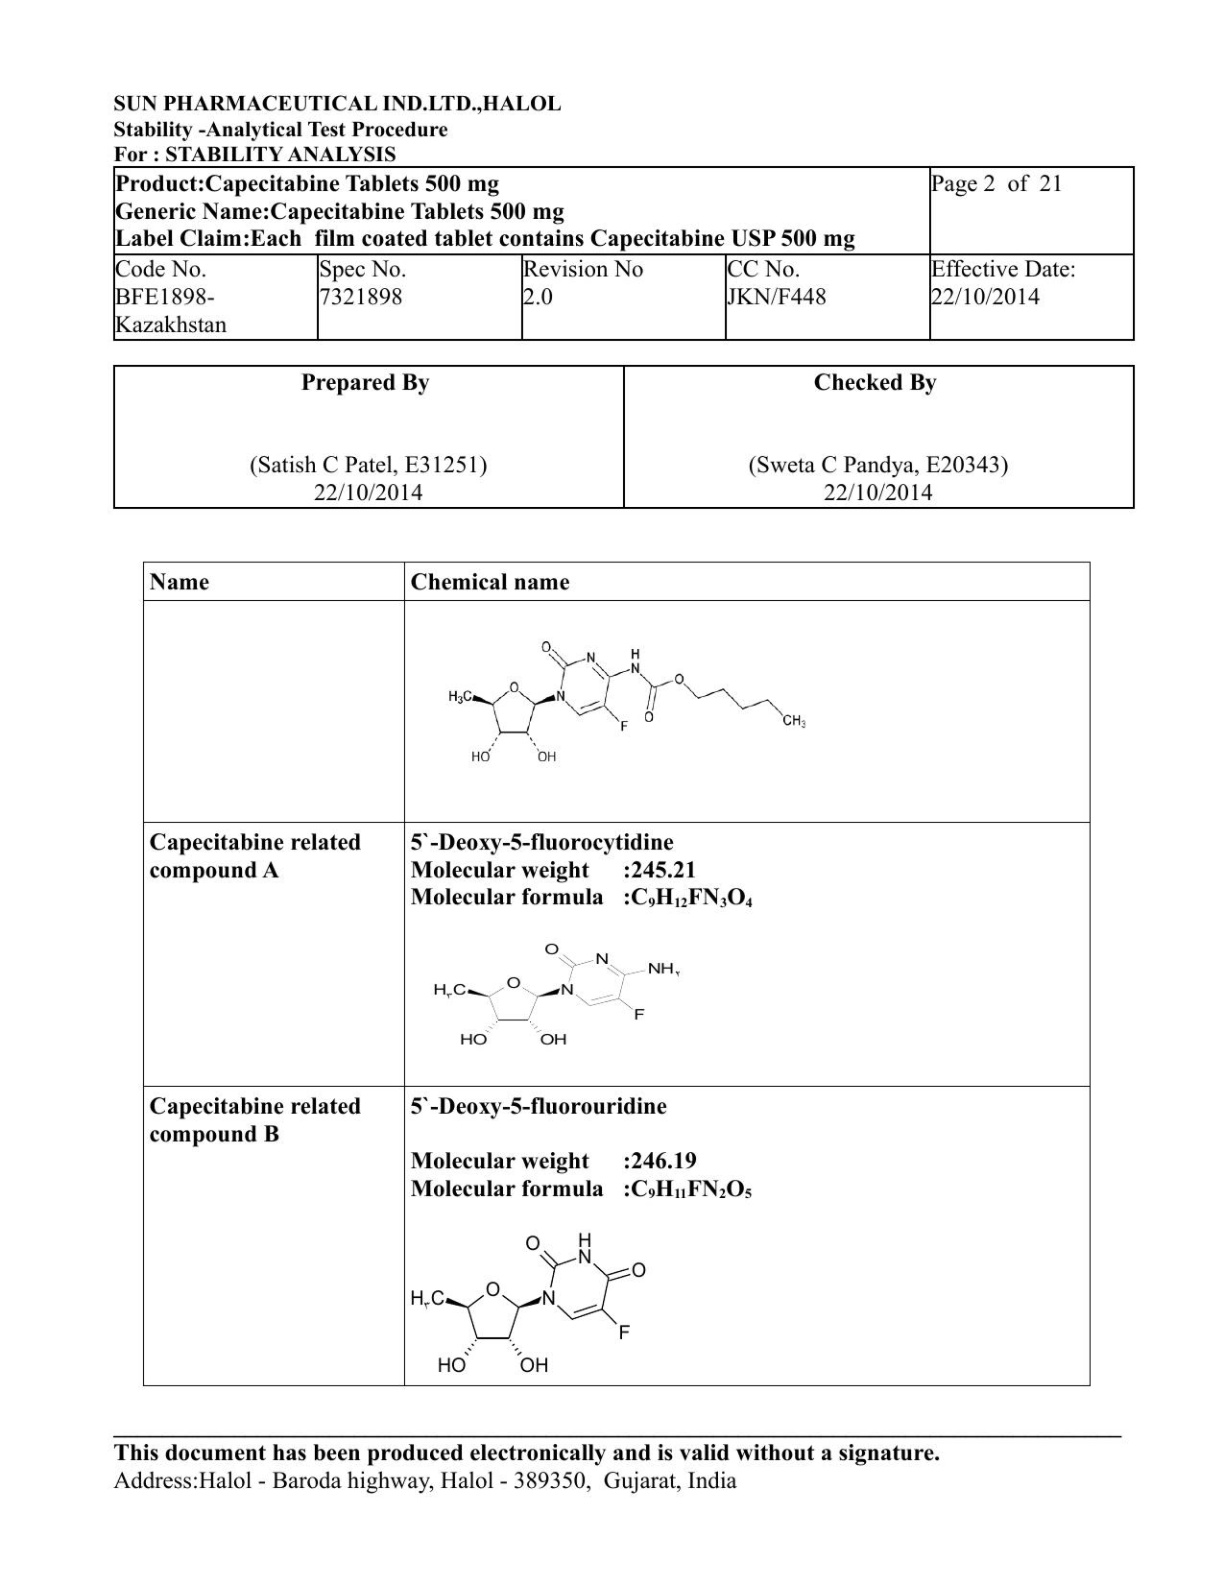full_lined: (141, 560, 1092, 1387), (112, 364, 1137, 509)
merged_cells: (112, 165, 1135, 342)
